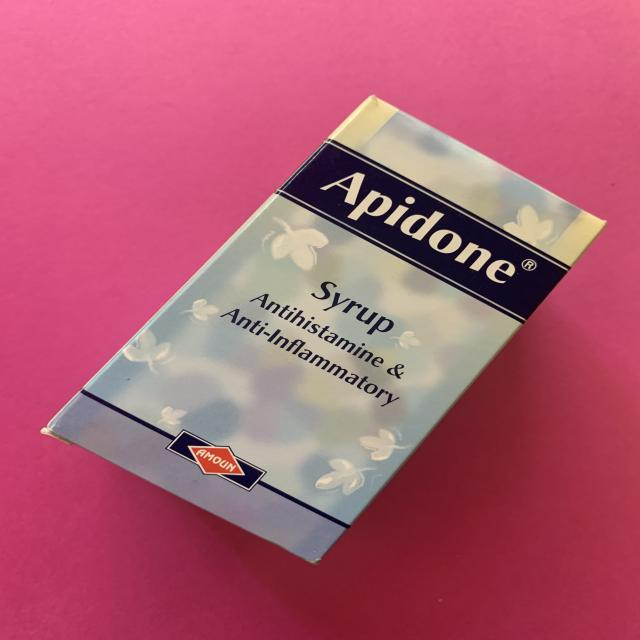medicine_packaging: (24, 81, 617, 578)
